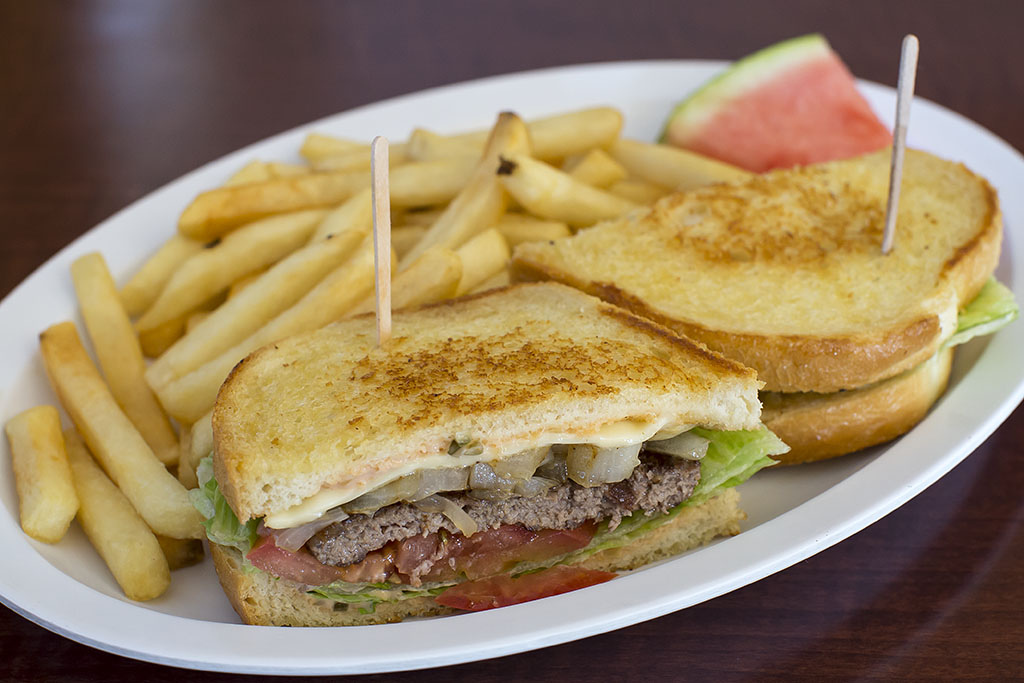slice of bread: (533, 138, 1006, 373), (201, 283, 741, 474)
